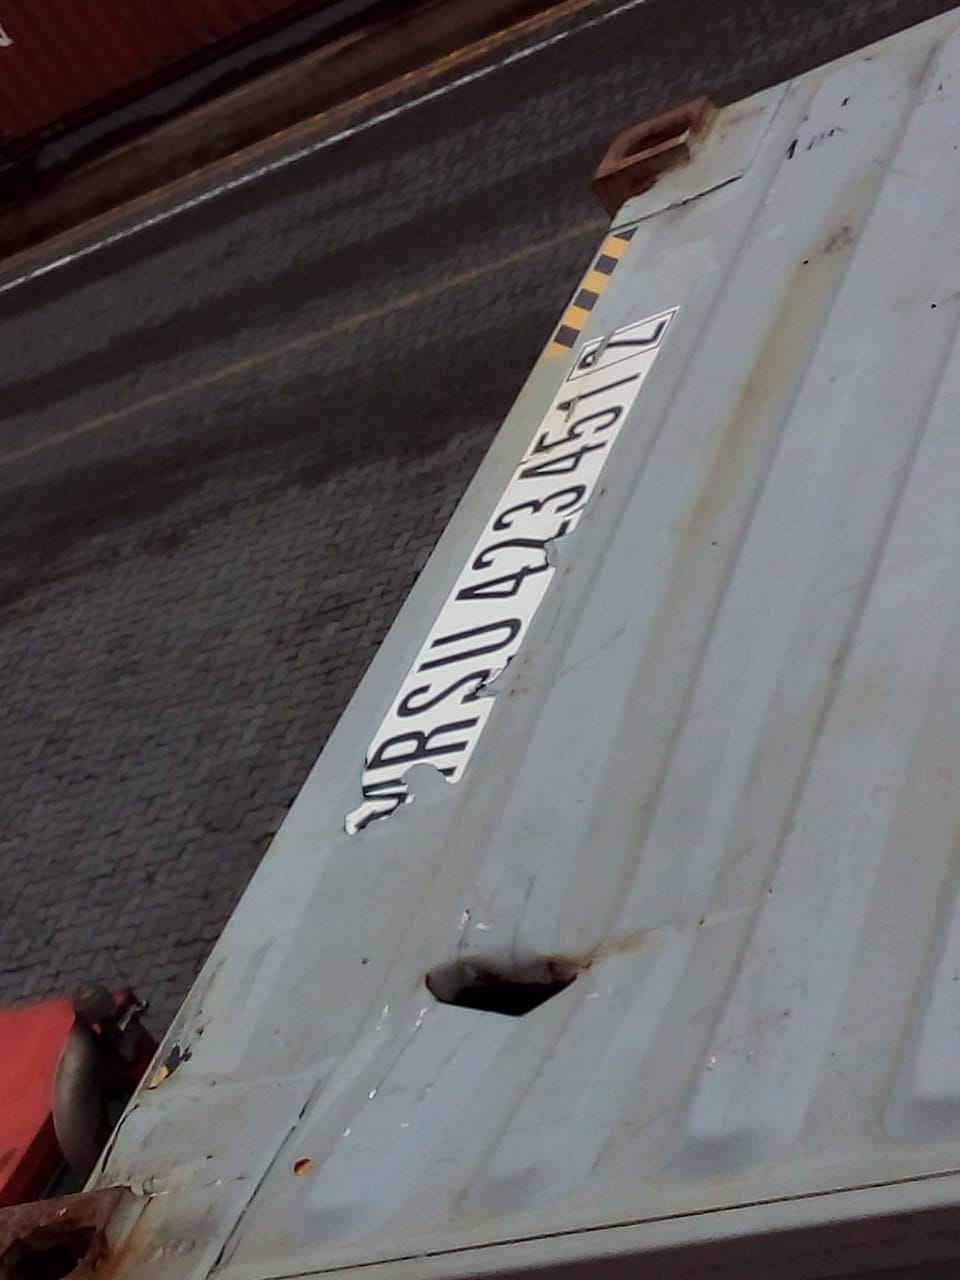hole: (380, 894, 607, 1054)
